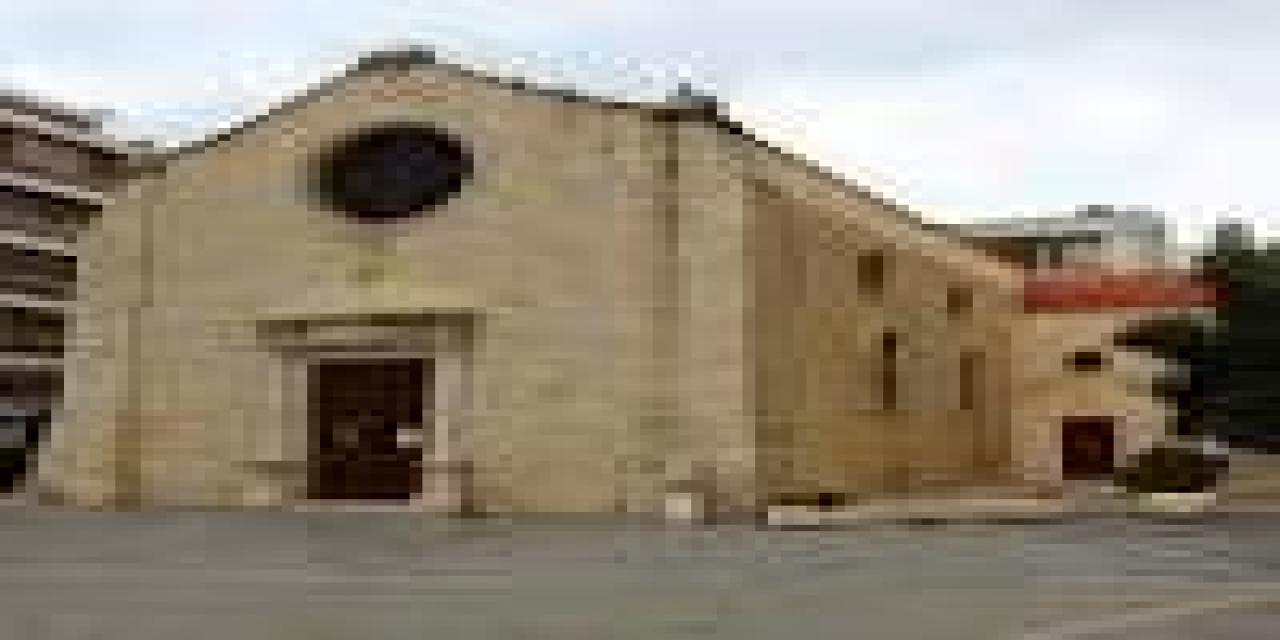Agia Aikaterini: (56, 45, 1207, 518)
